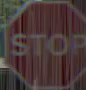Stop: (9, 9, 84, 70)
